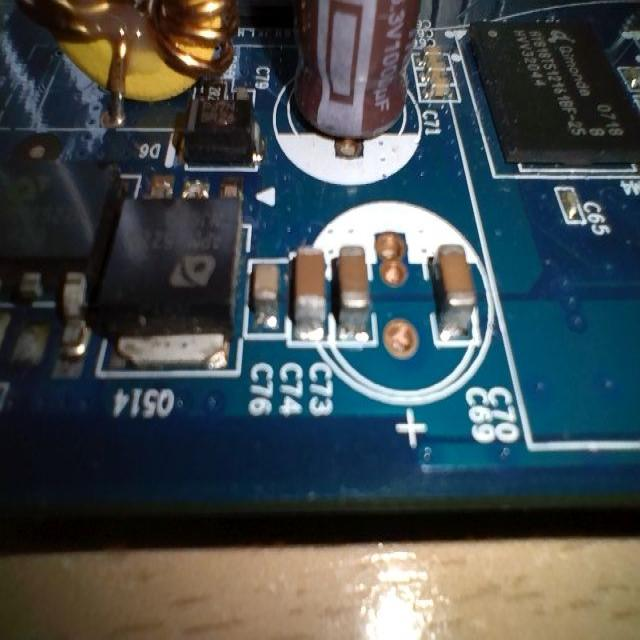capacitor: (278, 221, 339, 384), (417, 229, 488, 367), (242, 236, 296, 381), (329, 245, 387, 360), (418, 68, 473, 112), (555, 175, 587, 246)
